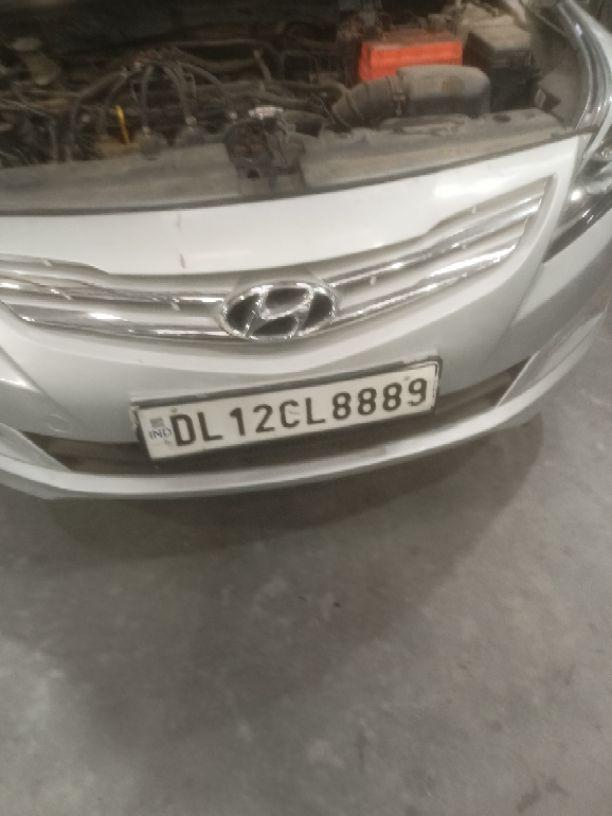license_plate: (128, 357, 441, 462)
